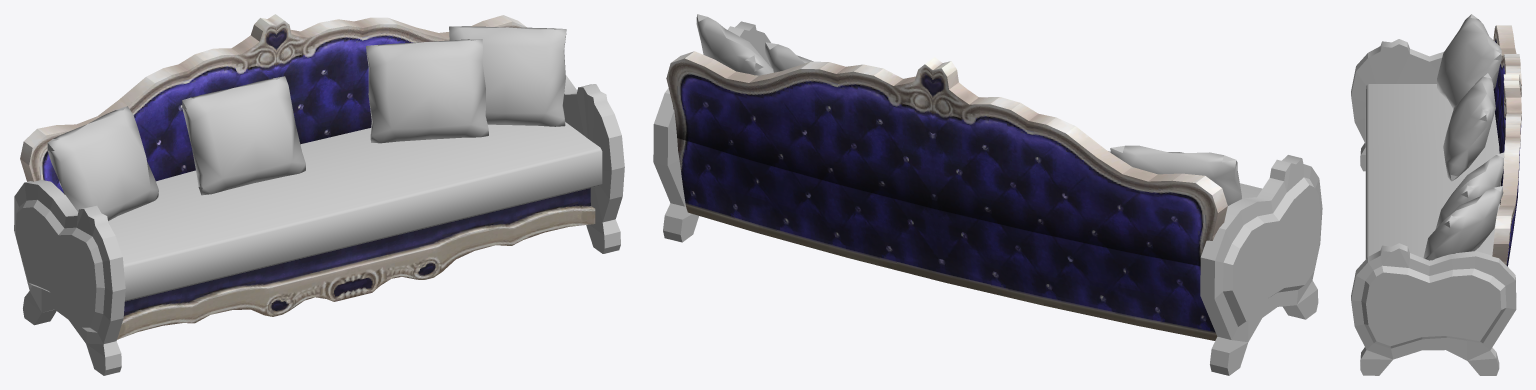
File: furni_0201113.FBX
The picture shows the model from 3 angles, left to right: view 1: azimuth 30°, elevation 25°; view 2: azimuth 150°, elevation 25°; view 3: azimuth 270°, elevation 25°; orthographic projection. The views are drawn at different scales.
Visible parts, largest first — view 1: furni_0201113; view 2: furni_0201113; view 3: furni_0201113.
Part boxes in pixels (box(x1,y1,x2,y2)): furni_0201113: box(14, 14, 624, 375); furni_0201113: box(653, 14, 1322, 375); furni_0201113: box(1351, 14, 1521, 375).
Size of the model in its own units: 239 by 99.45 by 79.86.
